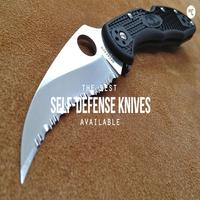knife: (16, 1, 182, 189)
